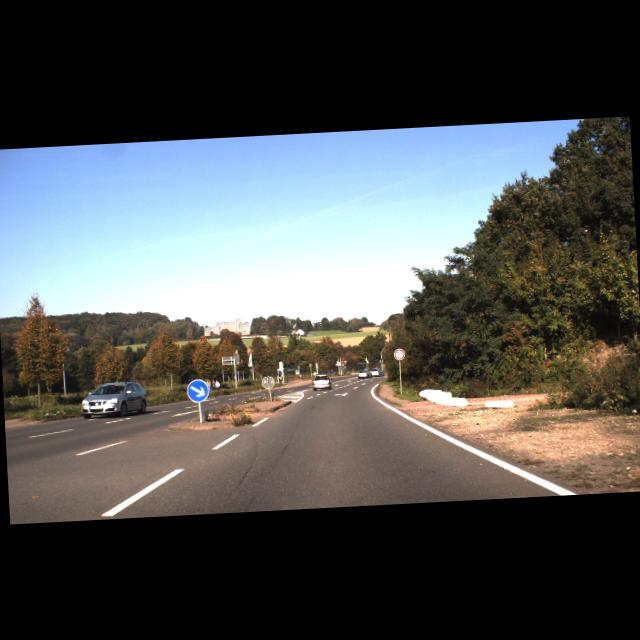mandatory: (186, 378, 209, 402)
prohibitory: (393, 348, 405, 360)
